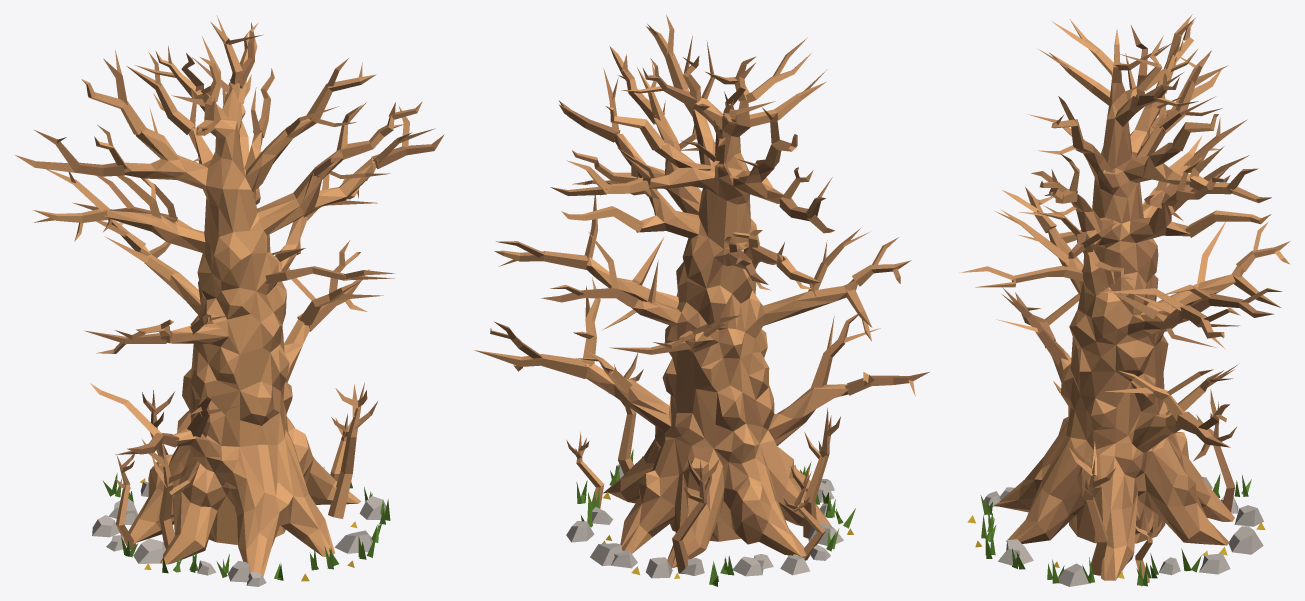
File: giant_ginkgo_bare.glb
3 views of the same model, side by side, from view 1: azimuth 30°, elevation 25°; view 2: azimuth 150°, elevation 25°; view 3: azimuth 270°, elevation 25° (orthographic).
Visible parts, largest first — view 1: giant_ginkgo_bare; view 2: giant_ginkgo_bare; view 3: giant_ginkgo_bare.
Part boxes in pixels (<box>): giant_ginkgo_bare: <box>15,15,444,586</box>; giant_ginkgo_bare: <box>474,15,929,586</box>; giant_ginkgo_bare: <box>959,14,1290,586</box>.
Bounding box in the file's own units: 23.14 × 30.43 × 18.5.
